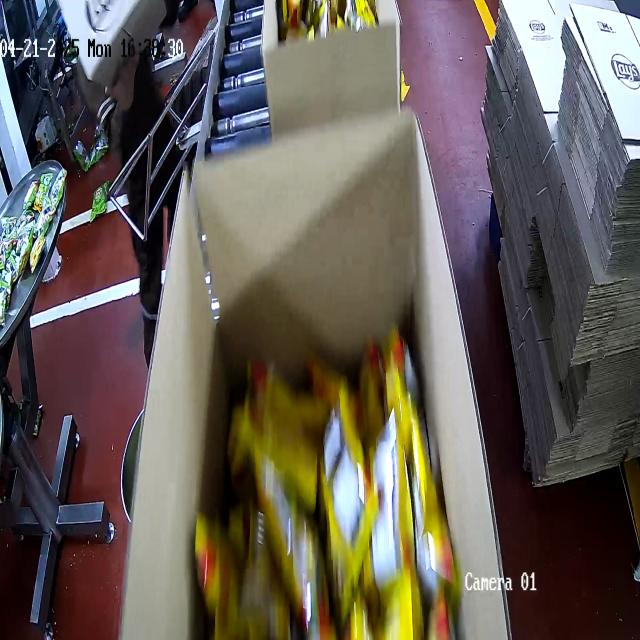SALTED: (212, 311, 444, 640)
